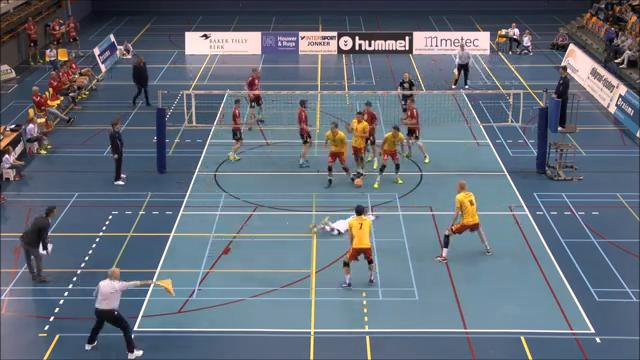Dig: (306, 200, 383, 236)
Player: (435, 181, 491, 262), (342, 205, 374, 287), (373, 125, 403, 188), (324, 122, 353, 187), (402, 98, 429, 162), (348, 112, 368, 177), (245, 68, 263, 122), (363, 101, 377, 169), (298, 100, 311, 167), (228, 99, 242, 160), (398, 72, 415, 119)
ball: (354, 179, 364, 188)
